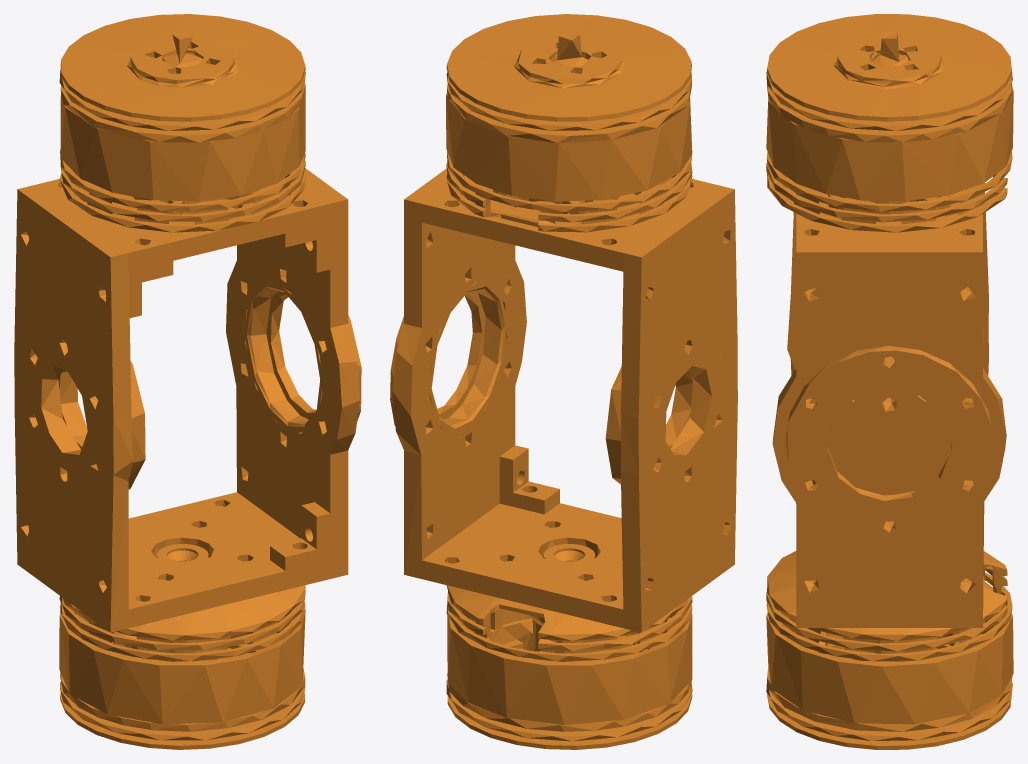
Rendered from tilt_roll_r.dae.
The picture shows the model from 3 angles, left to right: view 1: azimuth 30°, elevation 25°; view 2: azimuth 150°, elevation 25°; view 3: azimuth 270°, elevation 25°; orthographic projection.
Parts seen in each view (by area): view 1: arm_r_roll; view 2: arm_r_roll; view 3: arm_r_roll.
Part boxes in pixels (x1,y1,x2,y2): arm_r_roll: [14, 14, 361, 749]; arm_r_roll: [390, 14, 737, 749]; arm_r_roll: [766, 14, 1013, 749].
Bounding box in the file's own units: 0.055 × 0.0477 × 0.1478.
